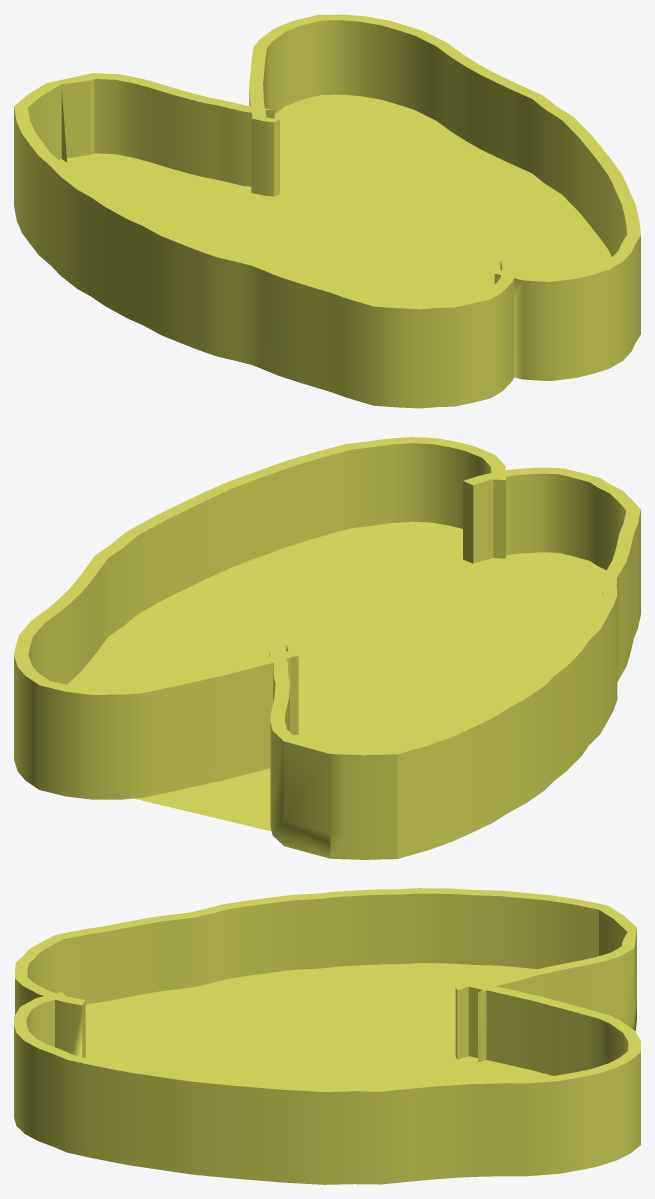
File: 2016_14_04_Extruded_Thymus_No_Cuts.fbx
3 renders of one model, top to bottom at view 1: azimuth 30°, elevation 25°; view 2: azimuth 150°, elevation 25°; view 3: azimuth 270°, elevation 25°, orthographic. The views are drawn at different scales.
Parts seen in each view (by area): view 1: polySurface1; view 2: polySurface1; view 3: polySurface1.
Boxes of the visible parts, box(x1,y1,x2,y2) form: polySurface1: box(14, 14, 640, 408); polySurface1: box(14, 437, 640, 859); polySurface1: box(14, 888, 640, 1184).
Size of the model in its own units: 18.85 by 4 by 24.49.
